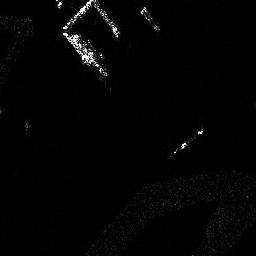ship: (70, 32, 108, 77), (172, 130, 206, 155), (139, 6, 162, 32)
